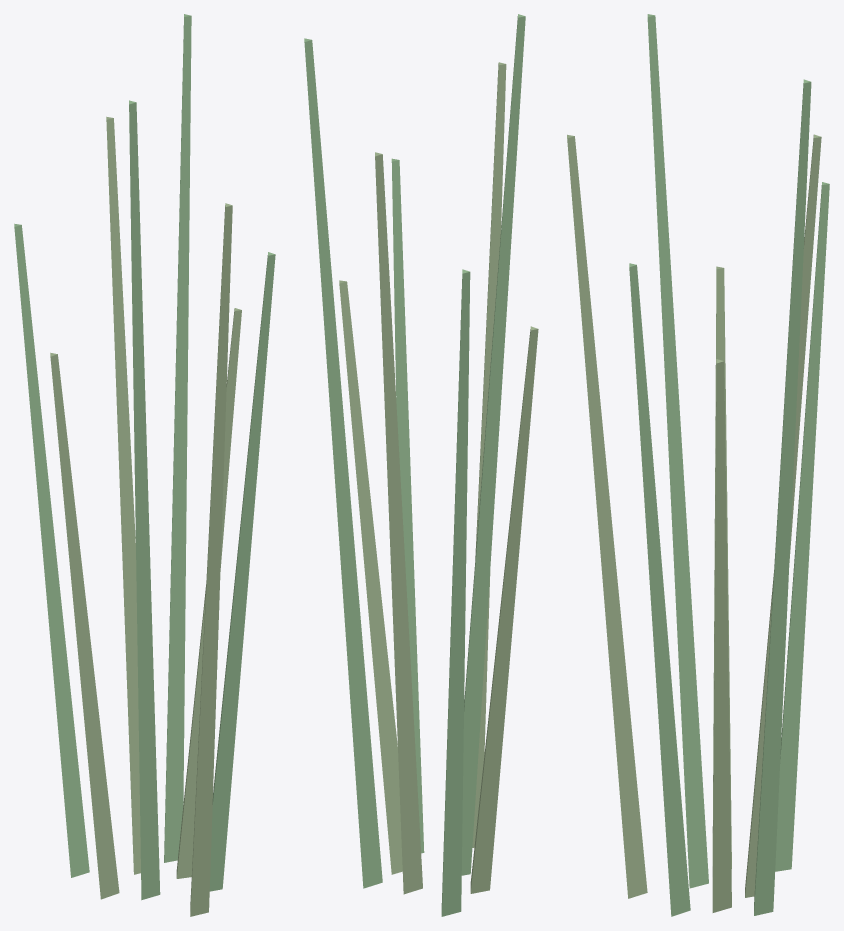
File: reed_v07.glb
The picture shows the model from 3 angles, left to right: view 1: azimuth 30°, elevation 25°; view 2: azimuth 150°, elevation 25°; view 3: azimuth 270°, elevation 25°; orthographic projection. The views are drawn at different scales.
Visible parts, largest first — view 1: lod0; view 2: lod0; view 3: lod0.
Boxes of the visible parts, bbox=[...] form: lod0: bbox=[14, 14, 275, 916]; lod0: bbox=[304, 14, 538, 916]; lod0: bbox=[567, 14, 829, 916].
Size of what is drawn, in the model's own units: 0.3538 by 1.45 by 0.4046.
